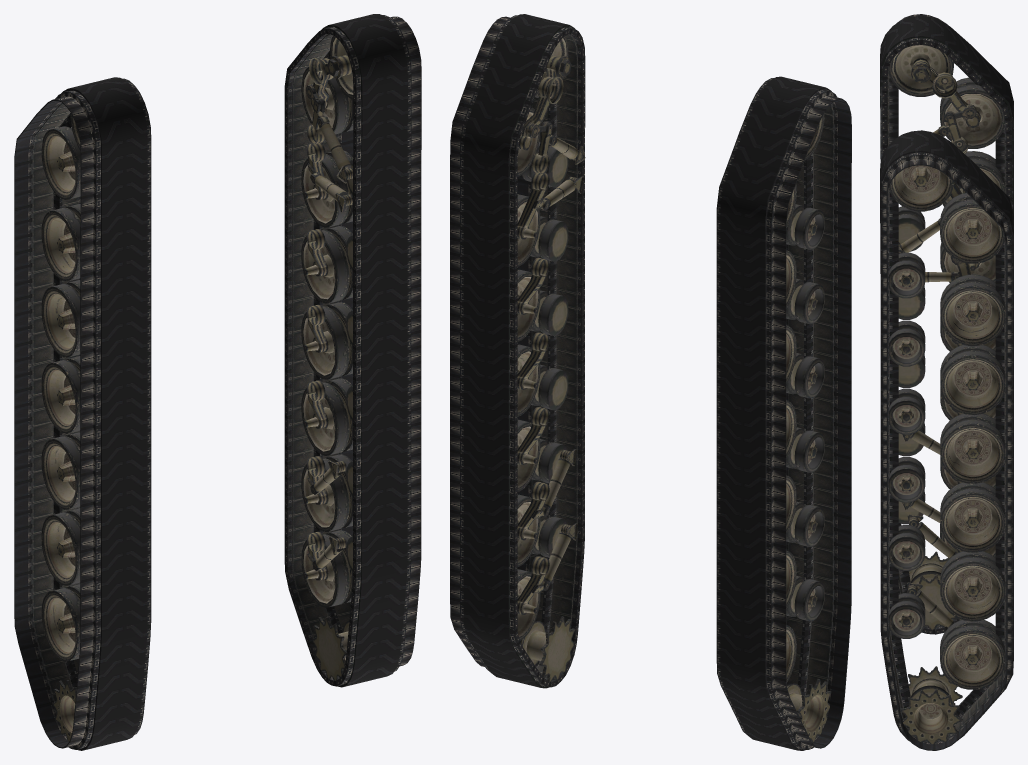
The model's file is Chassis.glb.
The picture shows the model from 3 angles, left to right: view 1: azimuth 30°, elevation 25°; view 2: azimuth 150°, elevation 25°; view 3: azimuth 270°, elevation 25°; orthographic projection. The views are drawn at different scales.
Parts seen in each view (by area): view 1: set_0_group_0, set_1_group_0, set_3_group_0, set_2_group_0; view 2: set_0_group_0, set_1_group_0, set_3_group_0, set_2_group_0; view 3: set_3_group_0, set_1_group_0, set_2_group_0, set_0_group_0.
Part boxes in pixels (x1,y1,x2,y2): set_0_group_0: [14, 77, 151, 750]; set_1_group_0: [284, 14, 421, 687]; set_3_group_0: [301, 36, 353, 680]; set_2_group_0: [41, 113, 80, 741]; set_0_group_0: [716, 76, 851, 750]; set_1_group_0: [450, 14, 585, 688]; set_3_group_0: [517, 37, 585, 681]; set_2_group_0: [786, 113, 831, 742]; set_3_group_0: [889, 165, 1005, 744]; set_1_group_0: [880, 130, 1013, 750]; set_2_group_0: [889, 45, 1005, 629]; set_0_group_0: [880, 14, 1013, 634].
Size of the model in its own units: 3.57 by 6.63 by 1.34.
Materials: 4 (4 with a texture image).
